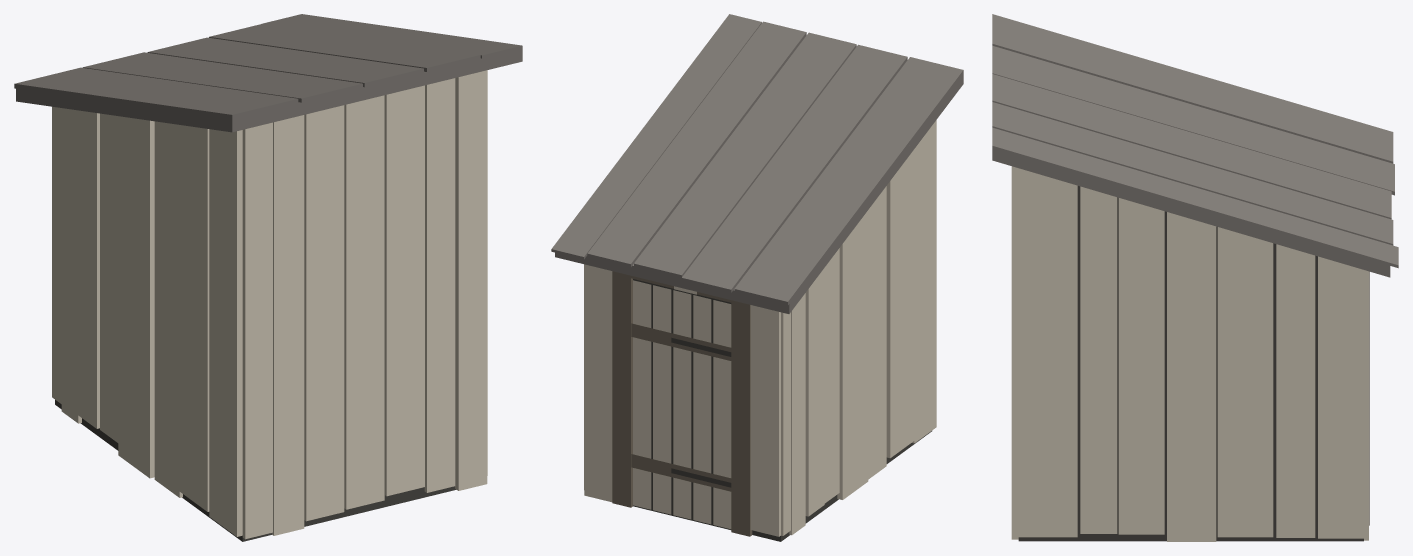
File: recon_1835_blk_randolph_dearborn_a3_09__inferred_1835.glb
3 renders of one model, left to right at view 1: azimuth 30°, elevation 25°; view 2: azimuth 150°, elevation 25°; view 3: azimuth 270°, elevation 25°, orthographic. The views are drawn at different scales.
Visible parts, largest first — view 1: recon_1835_blk_randolph_dearborn_a3_09__inferred_1835; view 2: recon_1835_blk_randolph_dearborn_a3_09__inferred_1835; view 3: recon_1835_blk_randolph_dearborn_a3_09__inferred_1835.
Part boxes in pixels (x1,y1,x2,y2): recon_1835_blk_randolph_dearborn_a3_09__inferred_1835: (14,14,522,541); recon_1835_blk_randolph_dearborn_a3_09__inferred_1835: (551,14,963,541); recon_1835_blk_randolph_dearborn_a3_09__inferred_1835: (992,14,1398,541).
Size of the model in its own units: 2.01 by 2.93 by 2.64.
